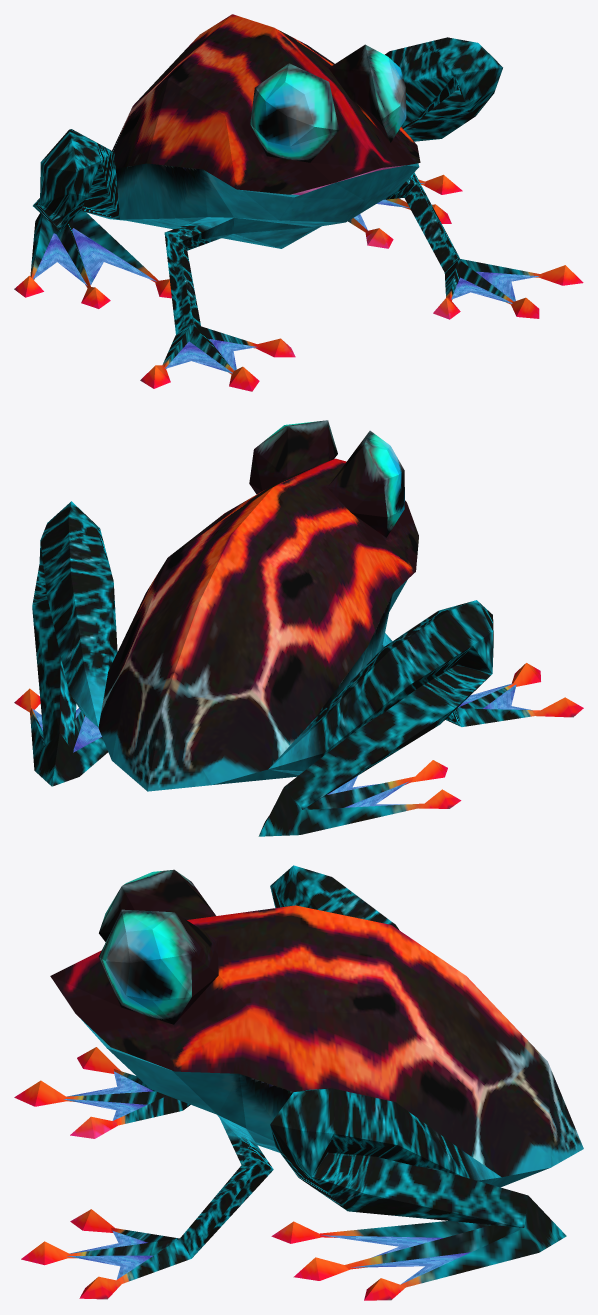
File: OBJ09_FROGBLACK.obj
The picture shows the model from 3 angles, top to bottom: view 1: azimuth 30°, elevation 25°; view 2: azimuth 150°, elevation 25°; view 3: azimuth 270°, elevation 25°; orthographic projection. The views are drawn at different scales.
Parts seen in each view (by area): view 1: Object_1; view 2: Object_1; view 3: Object_1.
Part boxes in pixels (x1,y1,x2,y2): Object_1: [14, 14, 583, 391]; Object_1: [14, 420, 583, 836]; Object_1: [14, 865, 583, 1300].
Size of the model in its own units: 41.39 by 21.88 by 39.31.
Materials: 2 (2 with a texture image).
